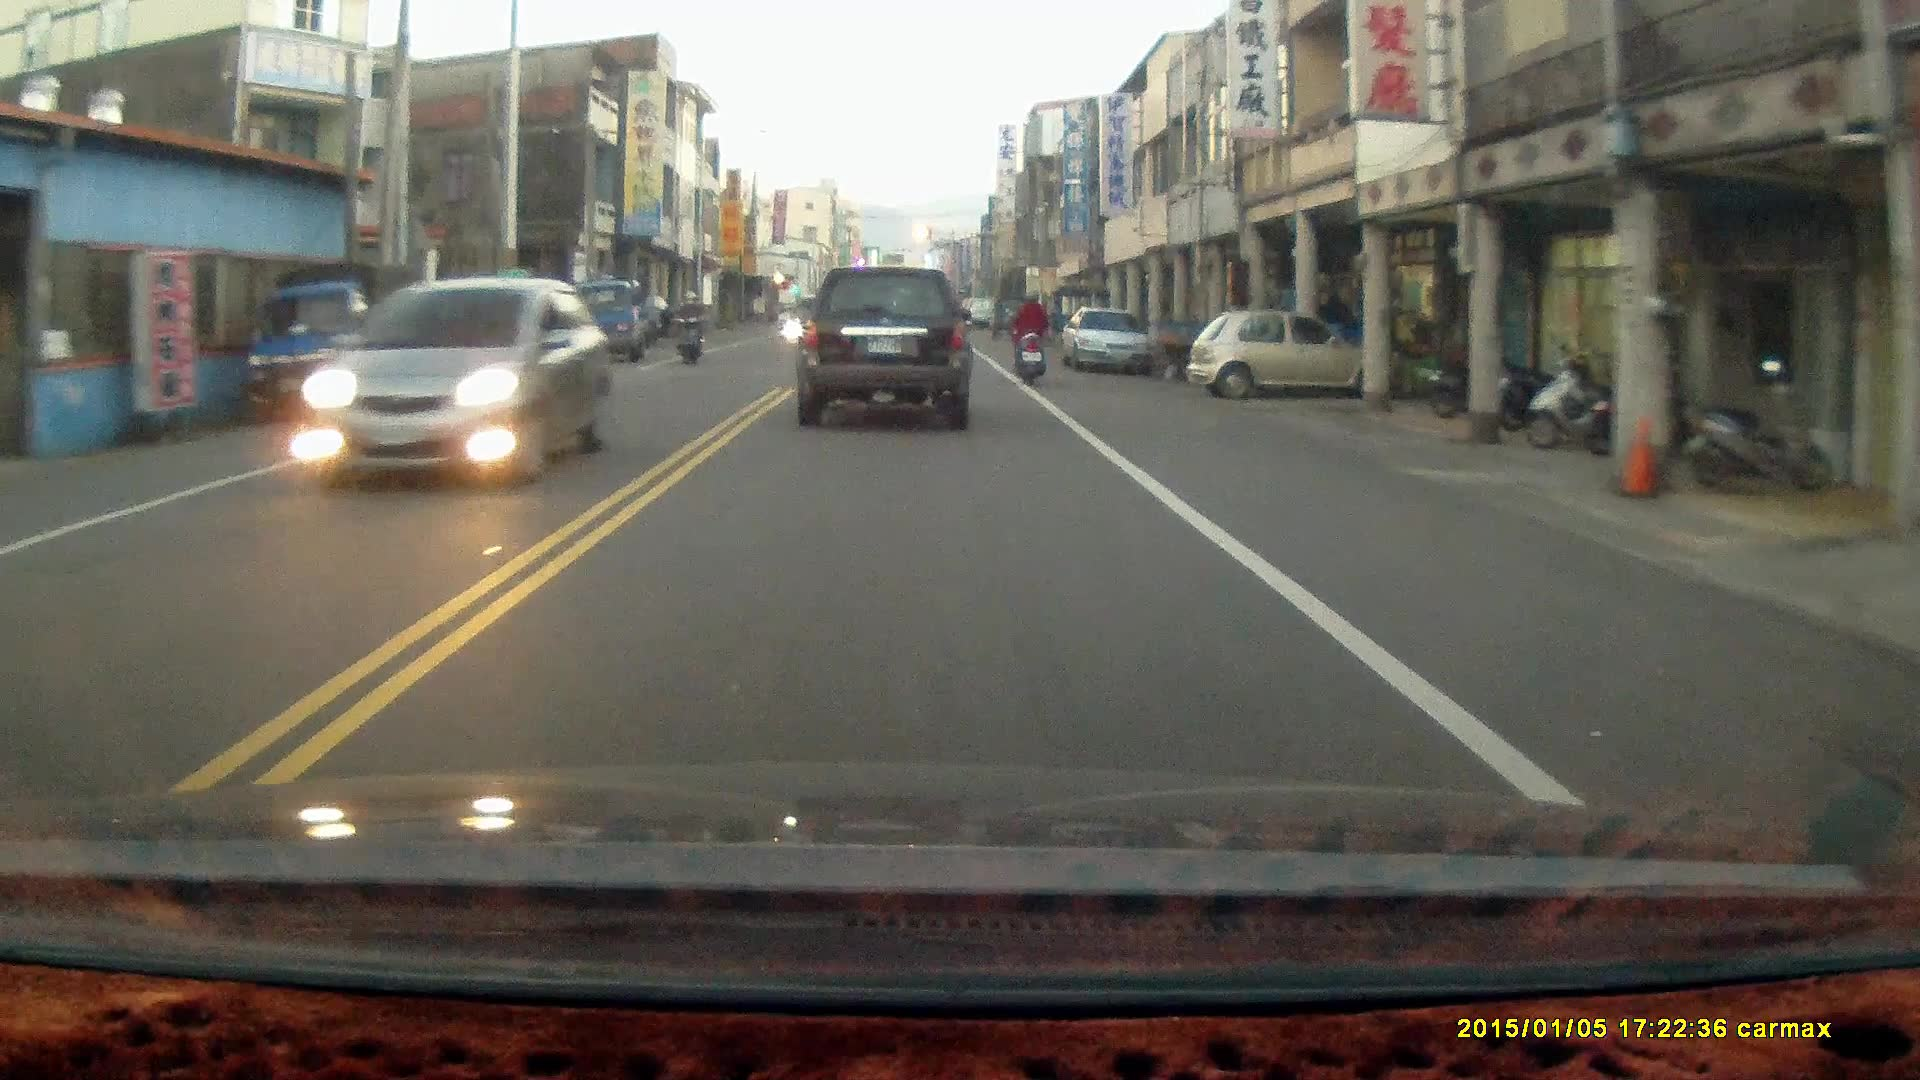rider: (1011, 285, 1049, 382), (673, 288, 704, 362)
vehicle: (282, 269, 613, 490), (794, 257, 975, 428), (239, 258, 426, 419), (1193, 304, 1391, 397), (560, 276, 670, 361), (1063, 305, 1157, 370)
